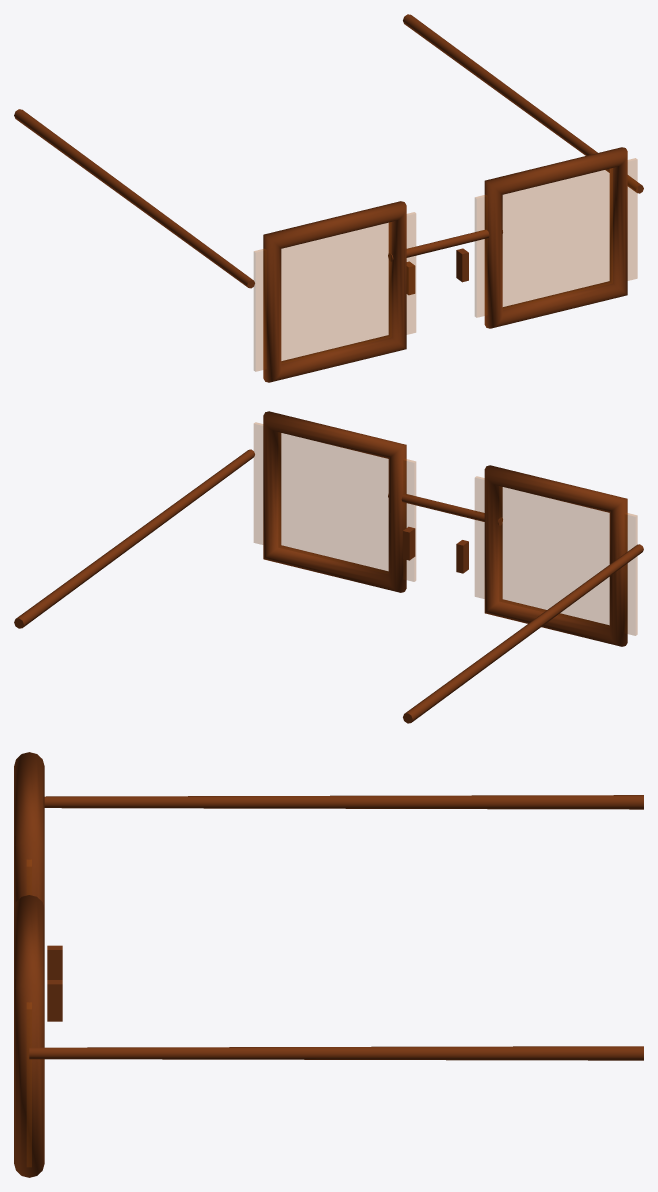
File: cateye_luxury_havana.glb
The picture shows the model from 3 angles, top to bottom: view 1: azimuth 30°, elevation 25°; view 2: azimuth 150°, elevation 25°; view 3: azimuth 270°, elevation 25°; orthographic projection. The views are drawn at different scales.
Parts seen in each view (by area): view 1: rightLens, leftLens, rightRim, leftRim, rightTemple, leftTemple, noseBridge; view 2: leftLens, rightLens, leftRim, rightRim, rightTemple, leftTemple, noseBridge; view 3: leftTemple, leftRim, rightTemple, rightRim, leftLens, nosePad_1.
Boxes of the visible parts, x1,y1,x2,y2 form: rightLens: (254,212,415,371); leftLens: (475,158,637,317); rightRim: (263,201,406,382); leftRim: (484,147,627,328); rightTemple: (14,109,254,288); leftTemple: (403,14,643,193); noseBridge: (388,229,502,261); leftLens: (254,422,415,581); rightLens: (475,476,637,635); leftRim: (263,411,406,592); rightRim: (484,465,627,646); rightTemple: (403,544,643,723); leftTemple: (14,449,254,628); noseBridge: (388,493,502,525); leftTemple: (29,1046,643,1060); leftRim: (14,895,44,1177); rightTemple: (44,795,643,809); rightRim: (14,752,44,908); leftLens: (27,1002,31,1166); nosePad_1: (47,980,62,1021).
Size of the model in its own units: 0.119 by 0.0416 by 0.123.
